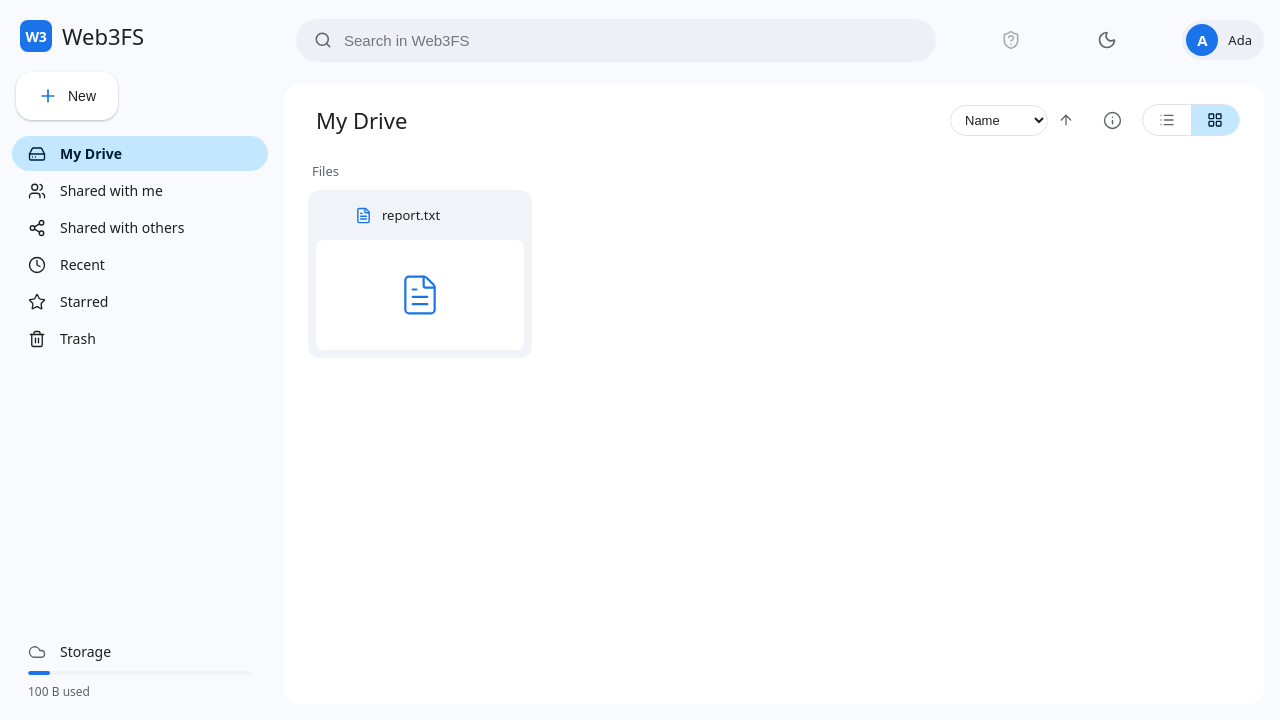
Test: keyboard shortcuts and the details panel › shortcuts work again once the panel is closed
Step 1. Click the checkbox → (398, 215), box [355,206,440,224]
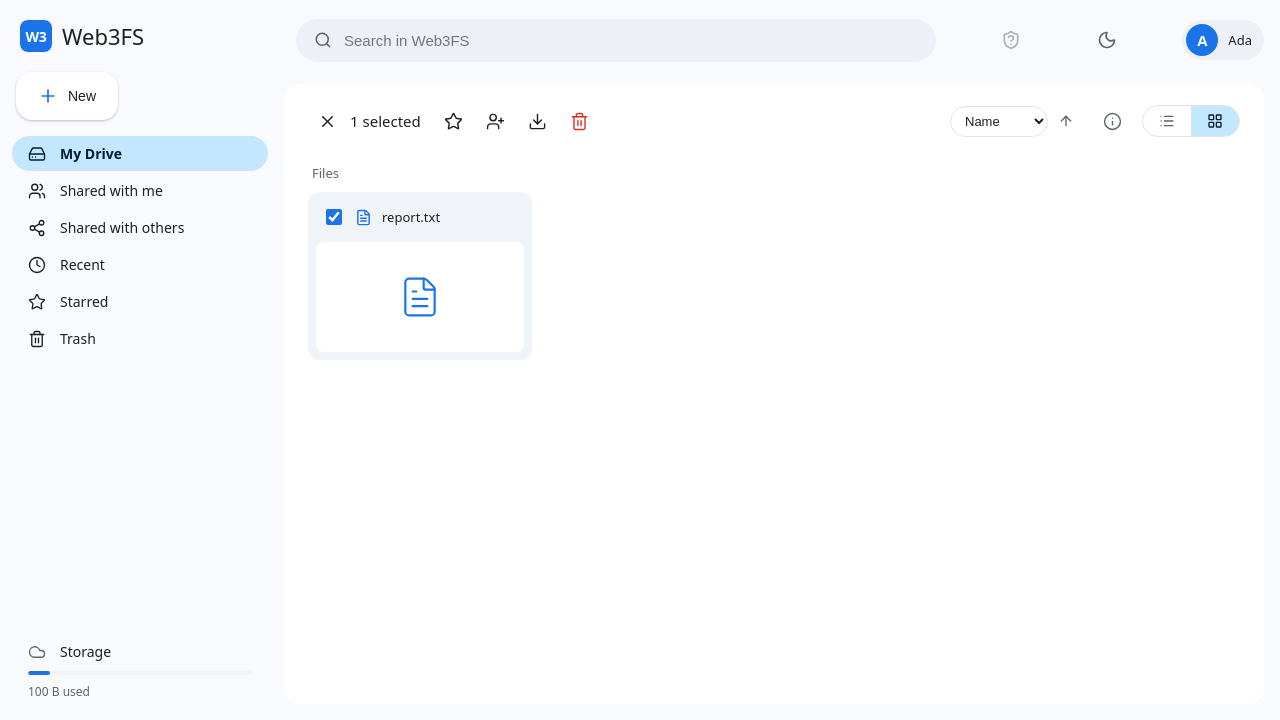
Step 2. Click the button titled "File details" → (1112, 121), box [1094,103,1130,139]
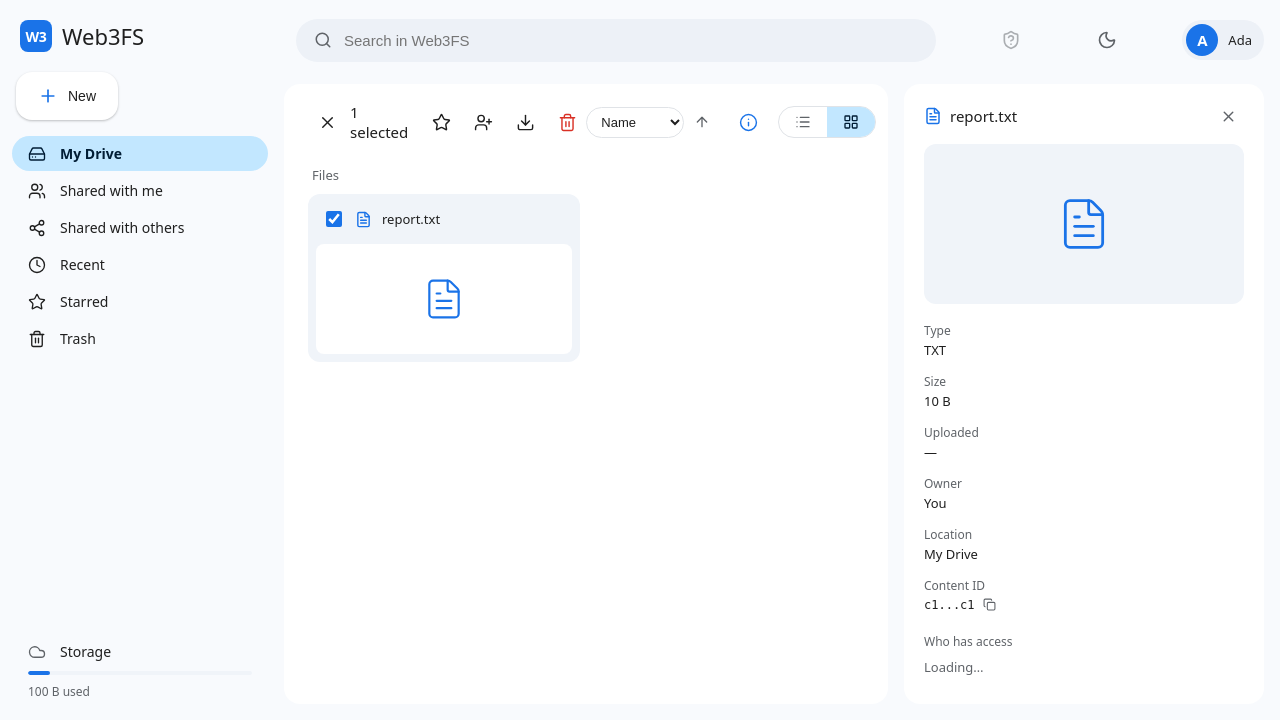
Step 3. Click the button named "Close details" → (1228, 116), box [1212,100,1244,132]
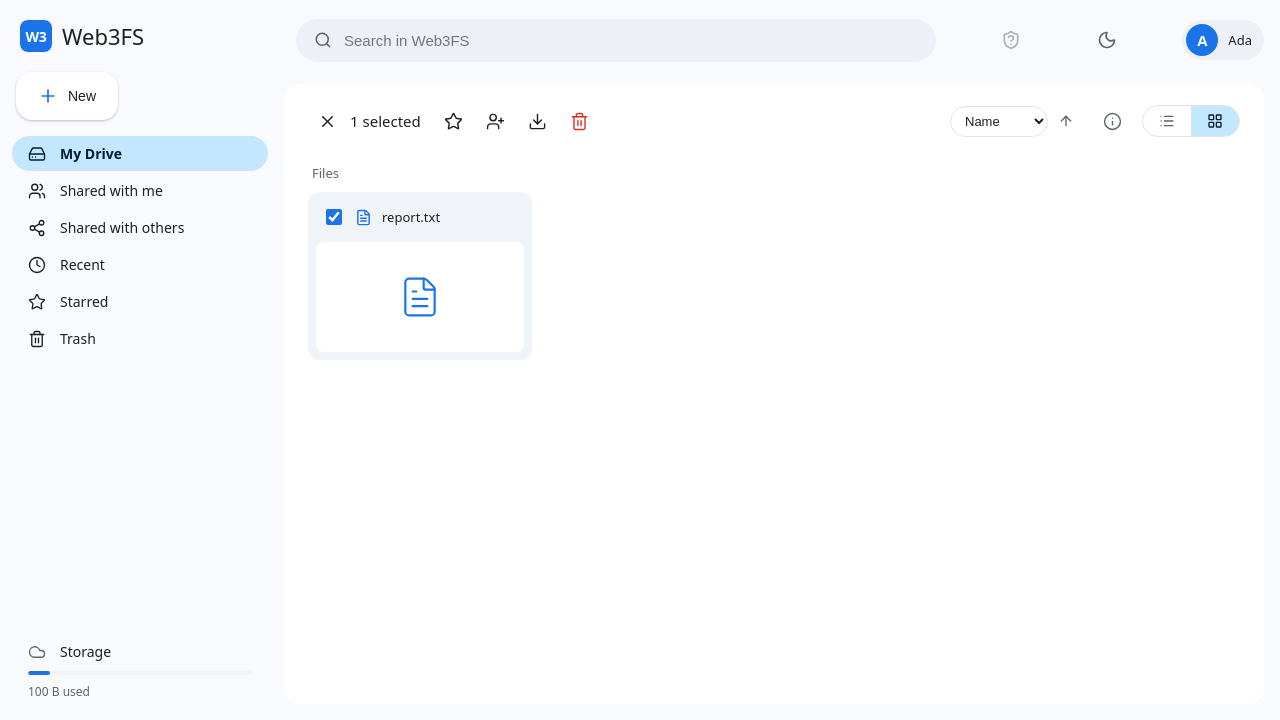
Step 4. Press F2
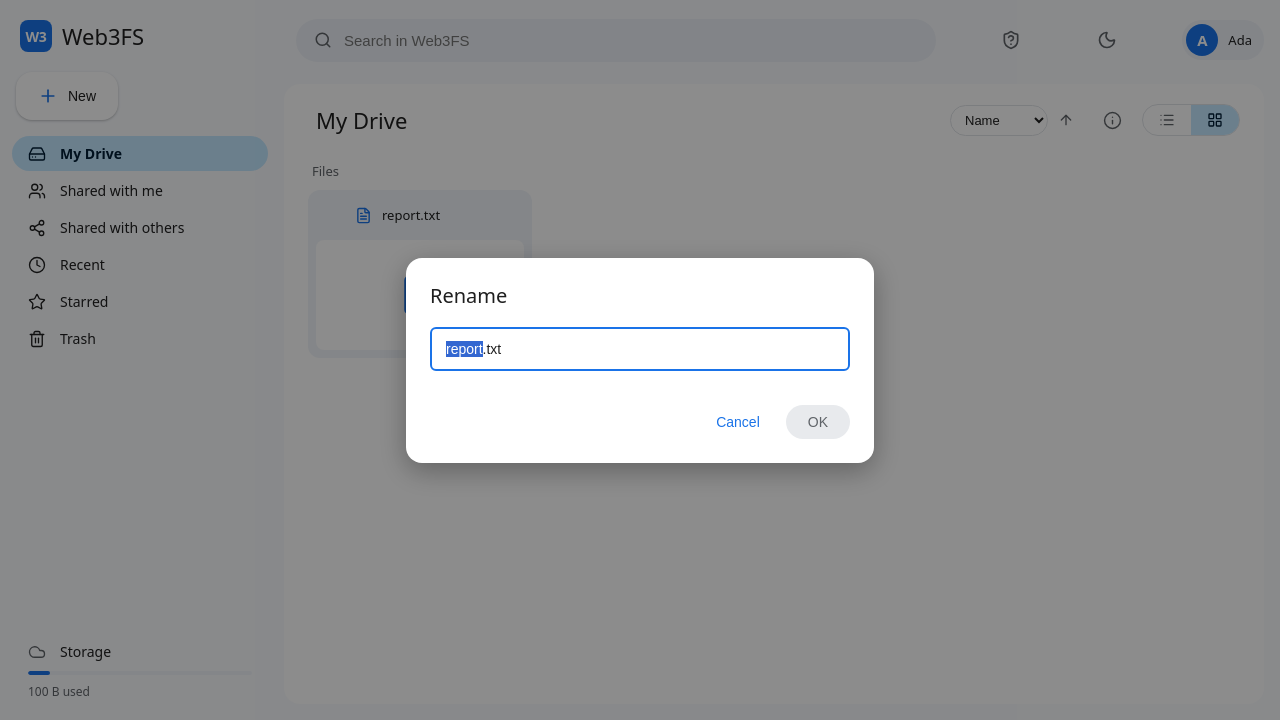
Check: the field showing "report.txt" is shown, box [430,326,850,370]
